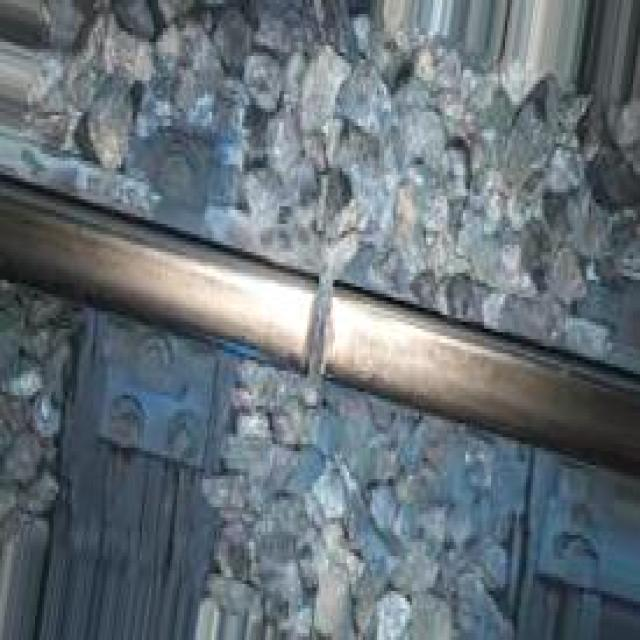crack: (295, 265, 366, 426)
